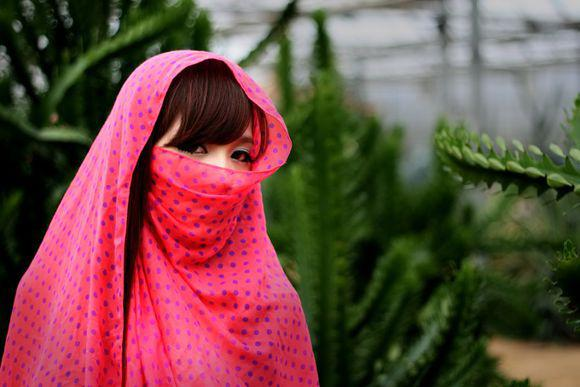OK: (151, 128, 260, 241)
